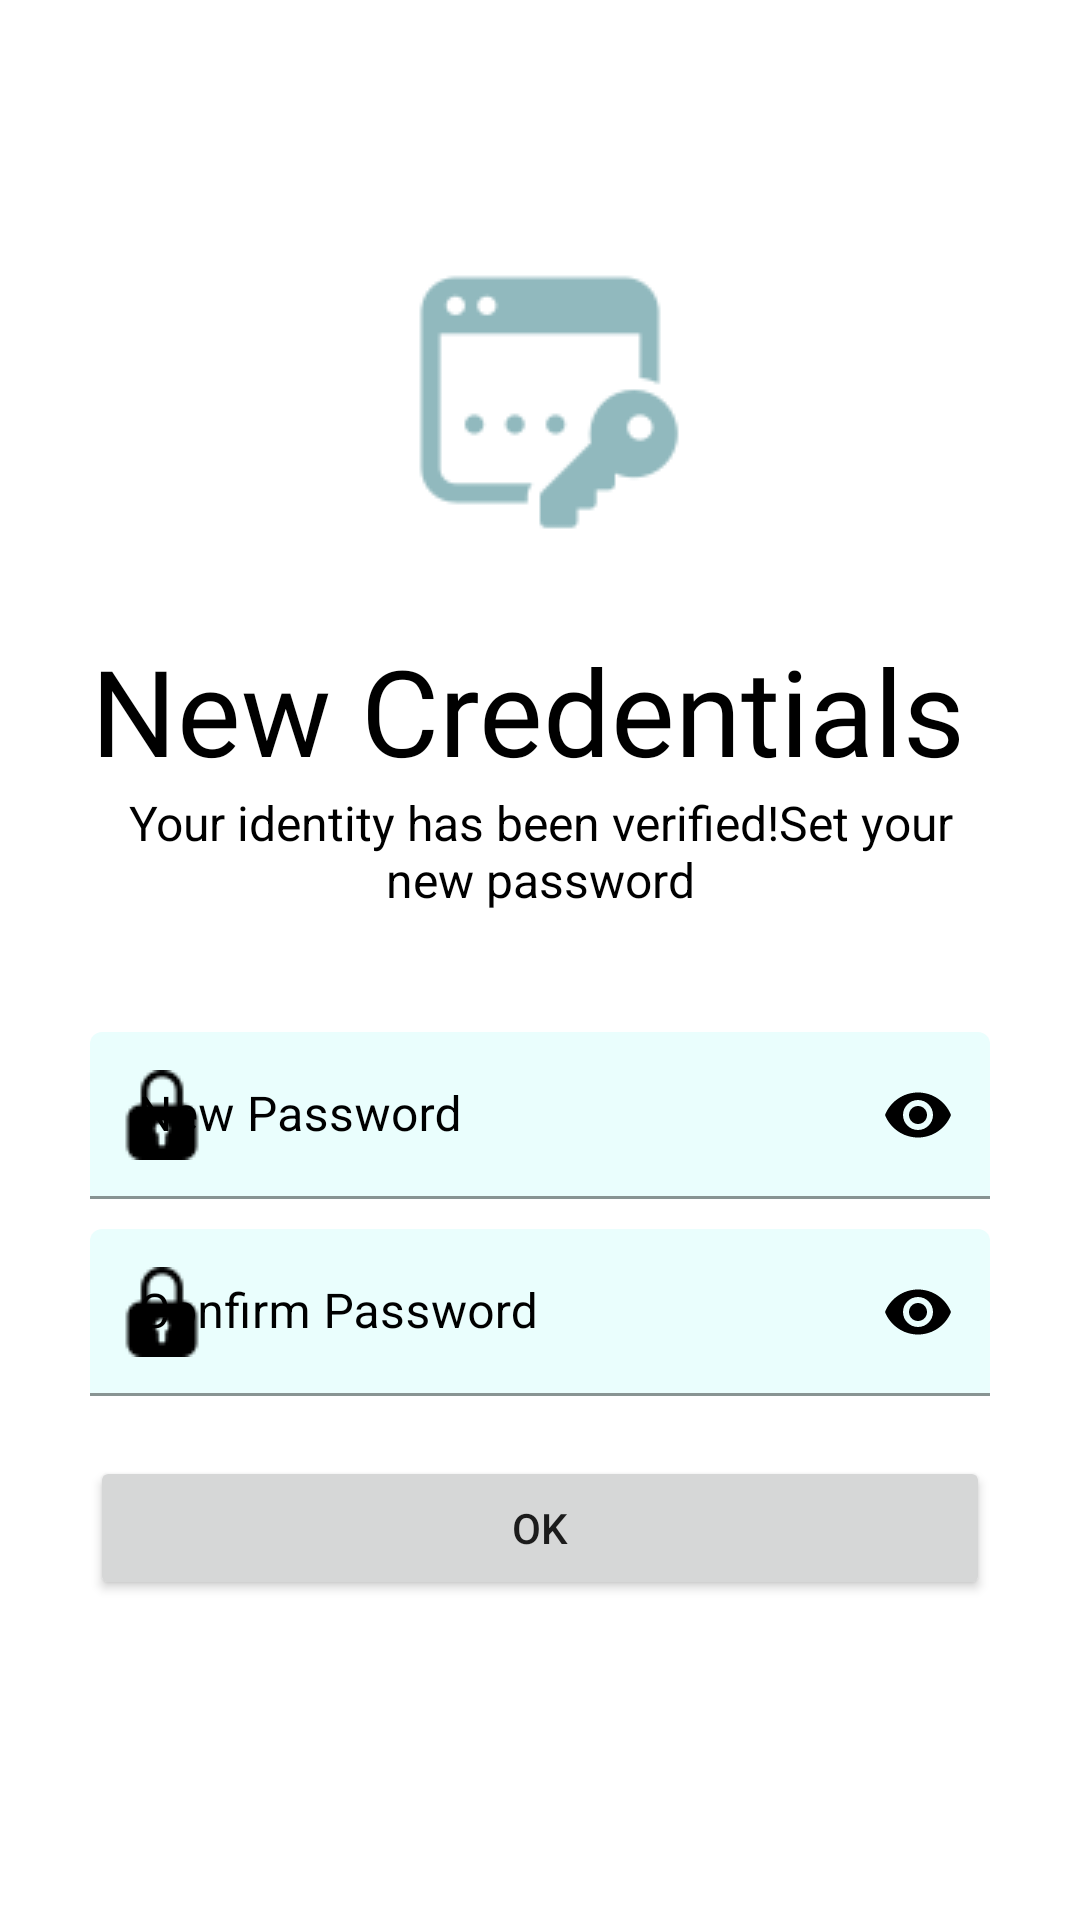

Where icons sit on this 1080×1920 app screen, as (x1, y1, x2, y2):
passwindow: (420, 276, 679, 529)
